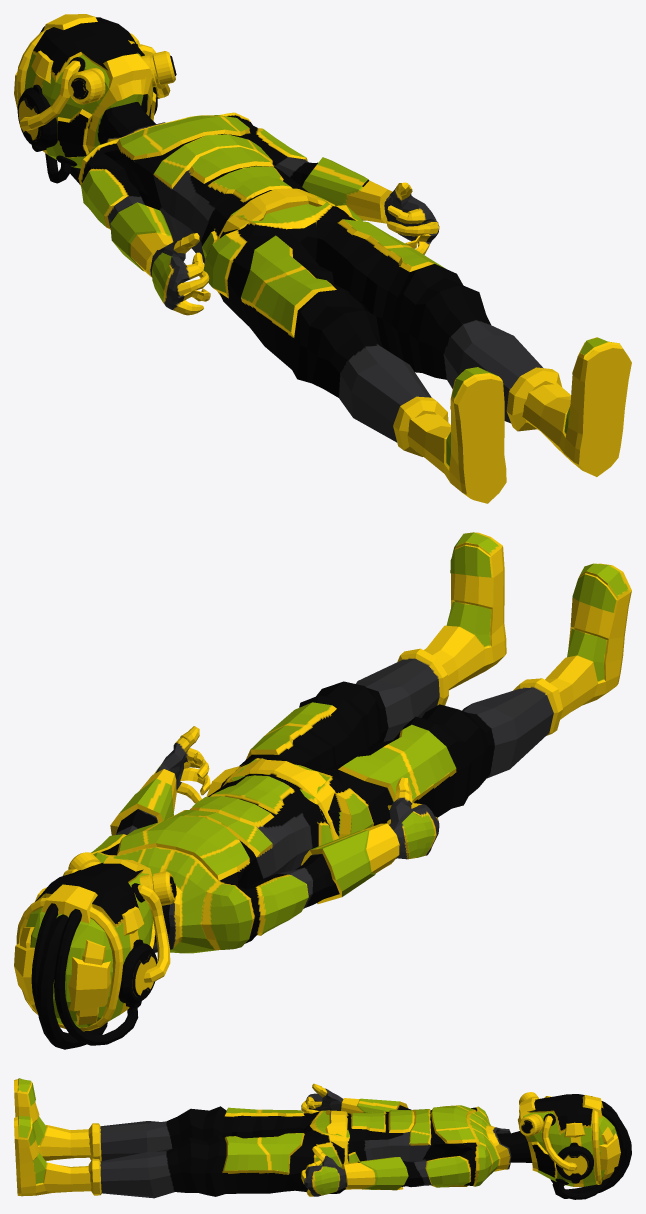
The model's file is Spacesuit_TPose.fbx.
The picture shows the model from 3 angles, top to bottom: view 1: azimuth 30°, elevation 25°; view 2: azimuth 150°, elevation 25°; view 3: azimuth 270°, elevation 25°; orthographic projection. The views are drawn at different scales.
Visible parts, largest first — view 1: SpaceSuit_Body.002; view 2: SpaceSuit_Body.002; view 3: SpaceSuit_Body.002.
Boxes of the visible parts, <box> form: SpaceSuit_Body.002: <box>14,14,631,503</box>; SpaceSuit_Body.002: <box>14,532,631,1049</box>; SpaceSuit_Body.002: <box>14,1078,631,1199</box>.
Bounding box in the file's own units: 1.29 × 0.7486 × 4.17.
